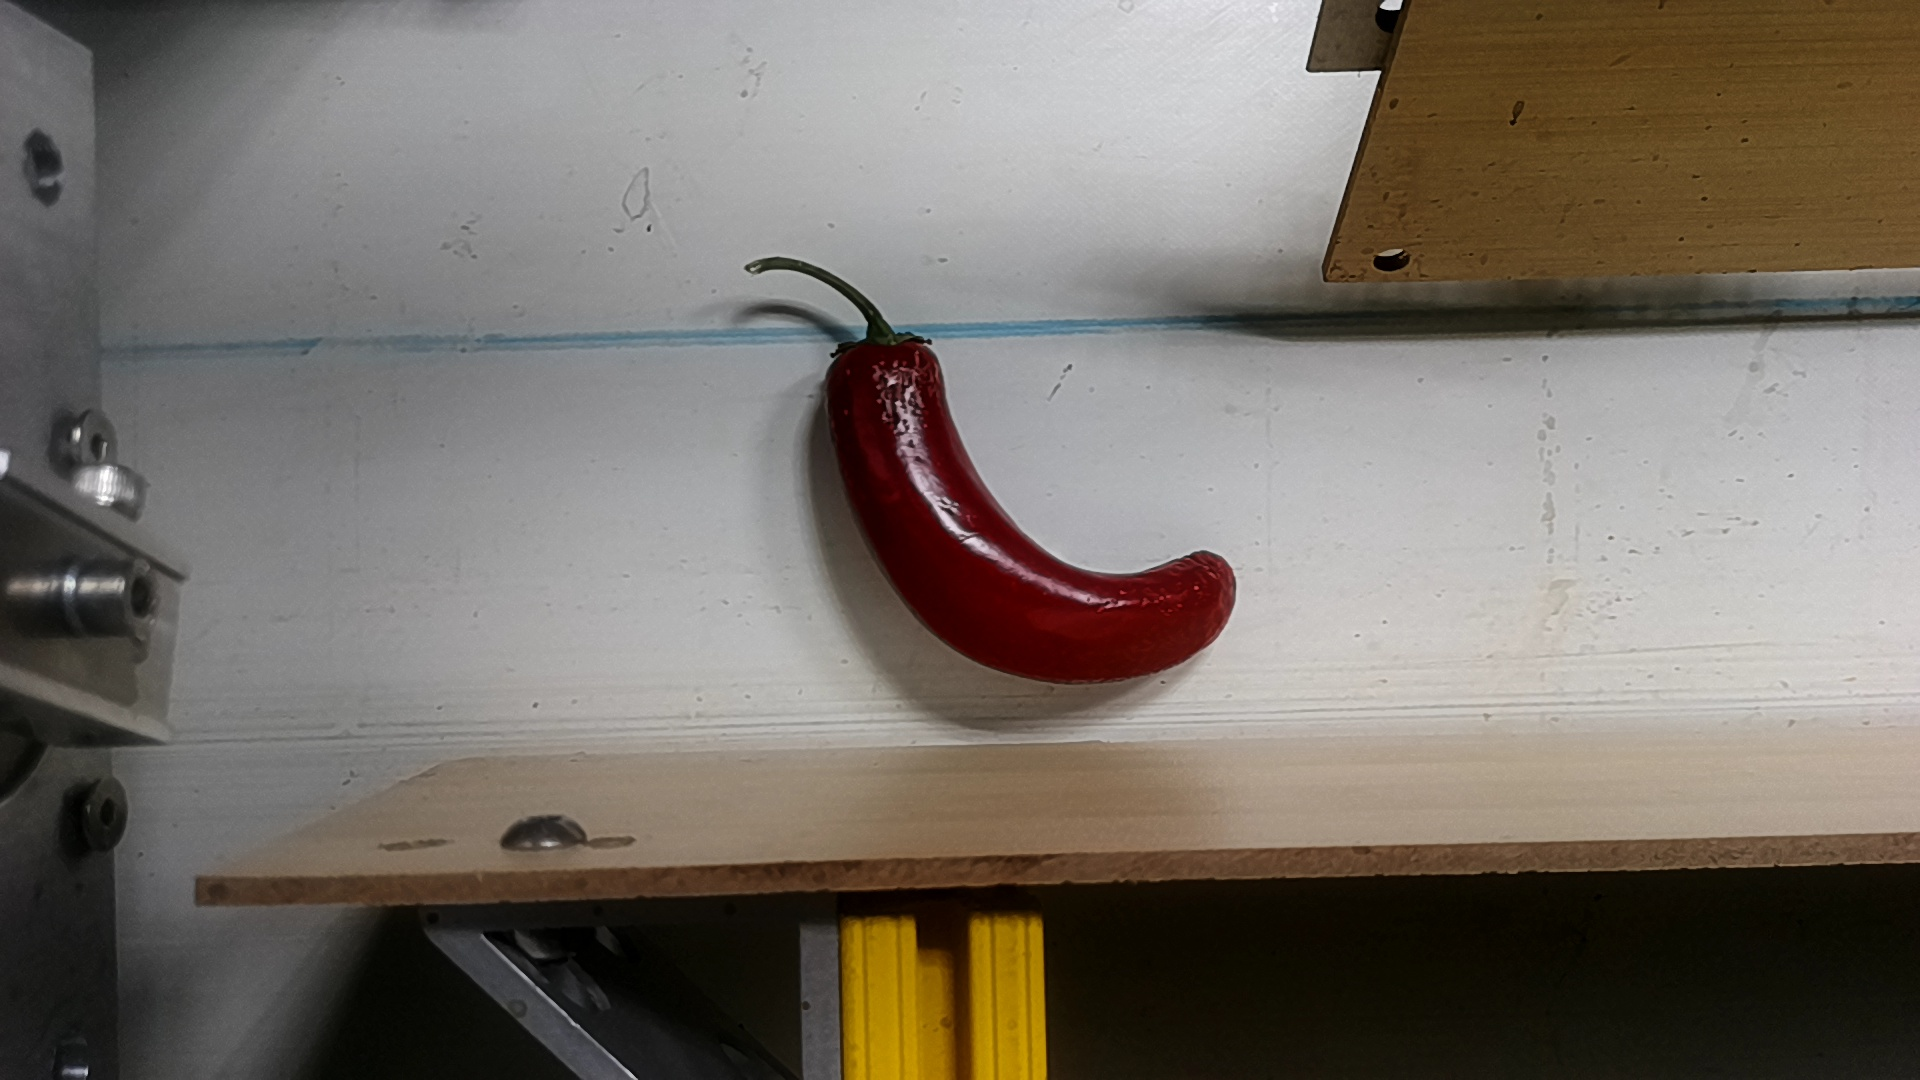Cut Point: (804, 297, 963, 405)
